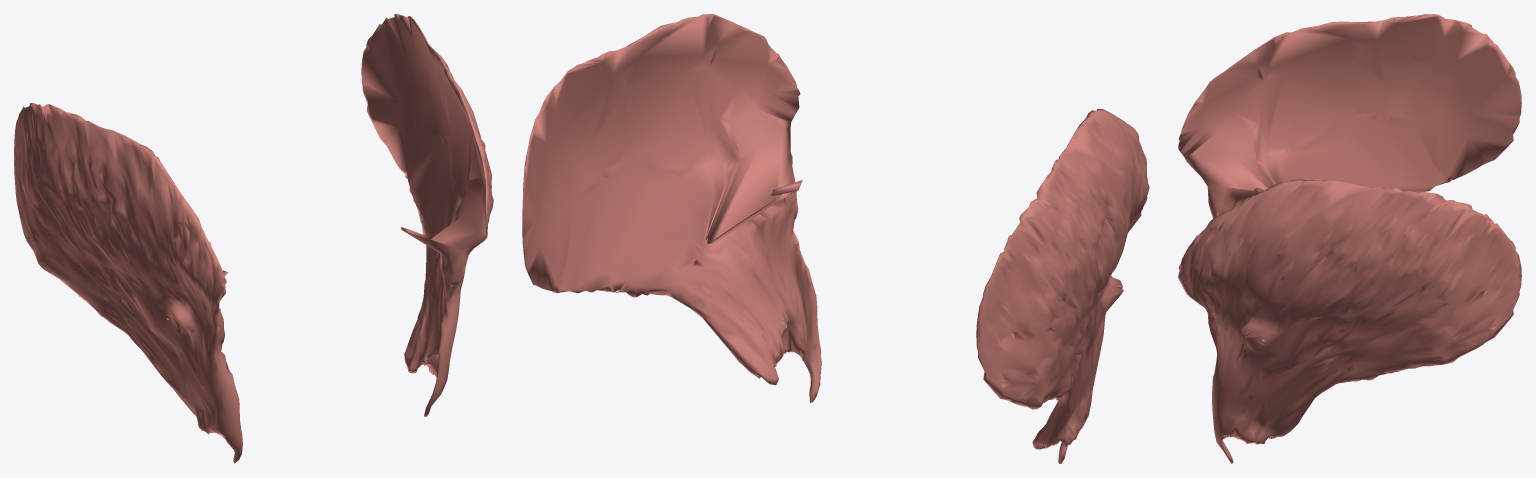
Rendered from temporalis_lod1.glb.
The picture shows the model from 3 angles, left to right: view 1: azimuth 30°, elevation 25°; view 2: azimuth 150°, elevation 25°; view 3: azimuth 270°, elevation 25°; orthographic projection. The views are drawn at different scales.
Parts seen in each view (by area): view 1: temporalis_R_lod1, temporalis_L_lod1; view 2: temporalis_L_lod1, temporalis_R_lod1; view 3: temporalis_L_lod1, temporalis_R_lod1.
Boxes of the visible parts, x1,y1,x2,y2 form: temporalis_R_lod1: (14,103,242,463); temporalis_L_lod1: (361,14,493,416); temporalis_L_lod1: (522,14,821,402); temporalis_R_lod1: (976,109,1149,463); temporalis_L_lod1: (1178,179,1521,463); temporalis_R_lod1: (1178,14,1521,218).
Size of the model in its own units: 0.1584 by 0.1194 by 0.1183.
